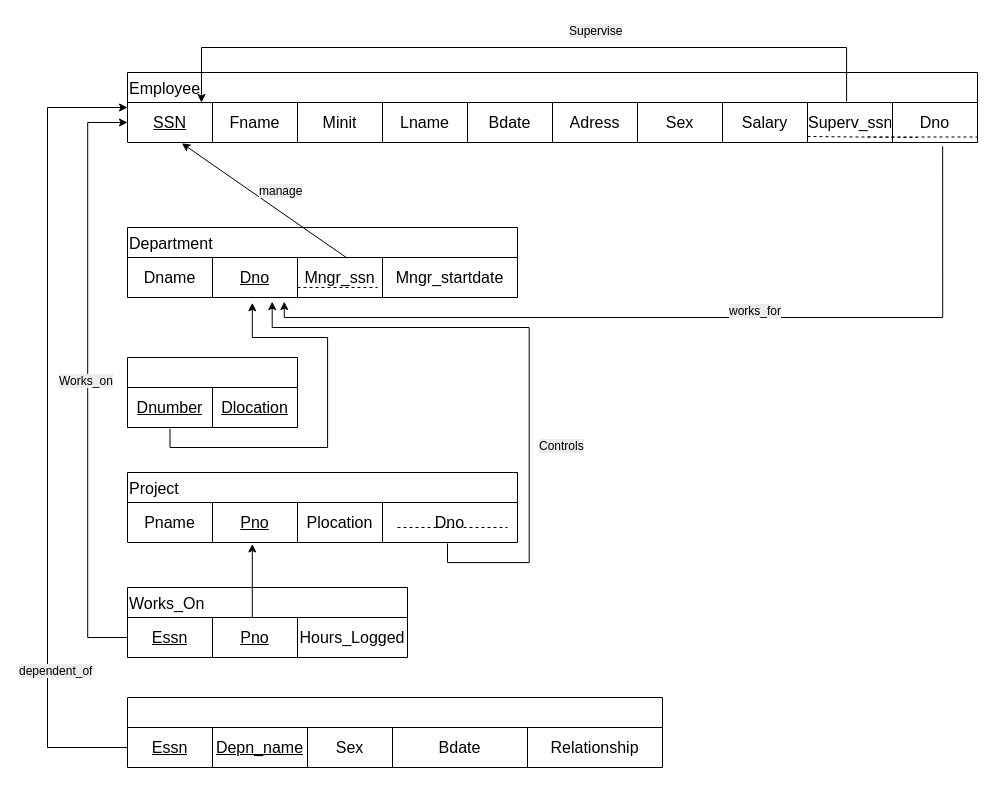
Some shapes in this 996 by 785 pixel diagram are drawn without their labels. Here are the shapes that lost their labels. From the top down, the box of each, then its label:
(126, 356, 298, 428): DLocations
(126, 696, 662, 768): Dependent
